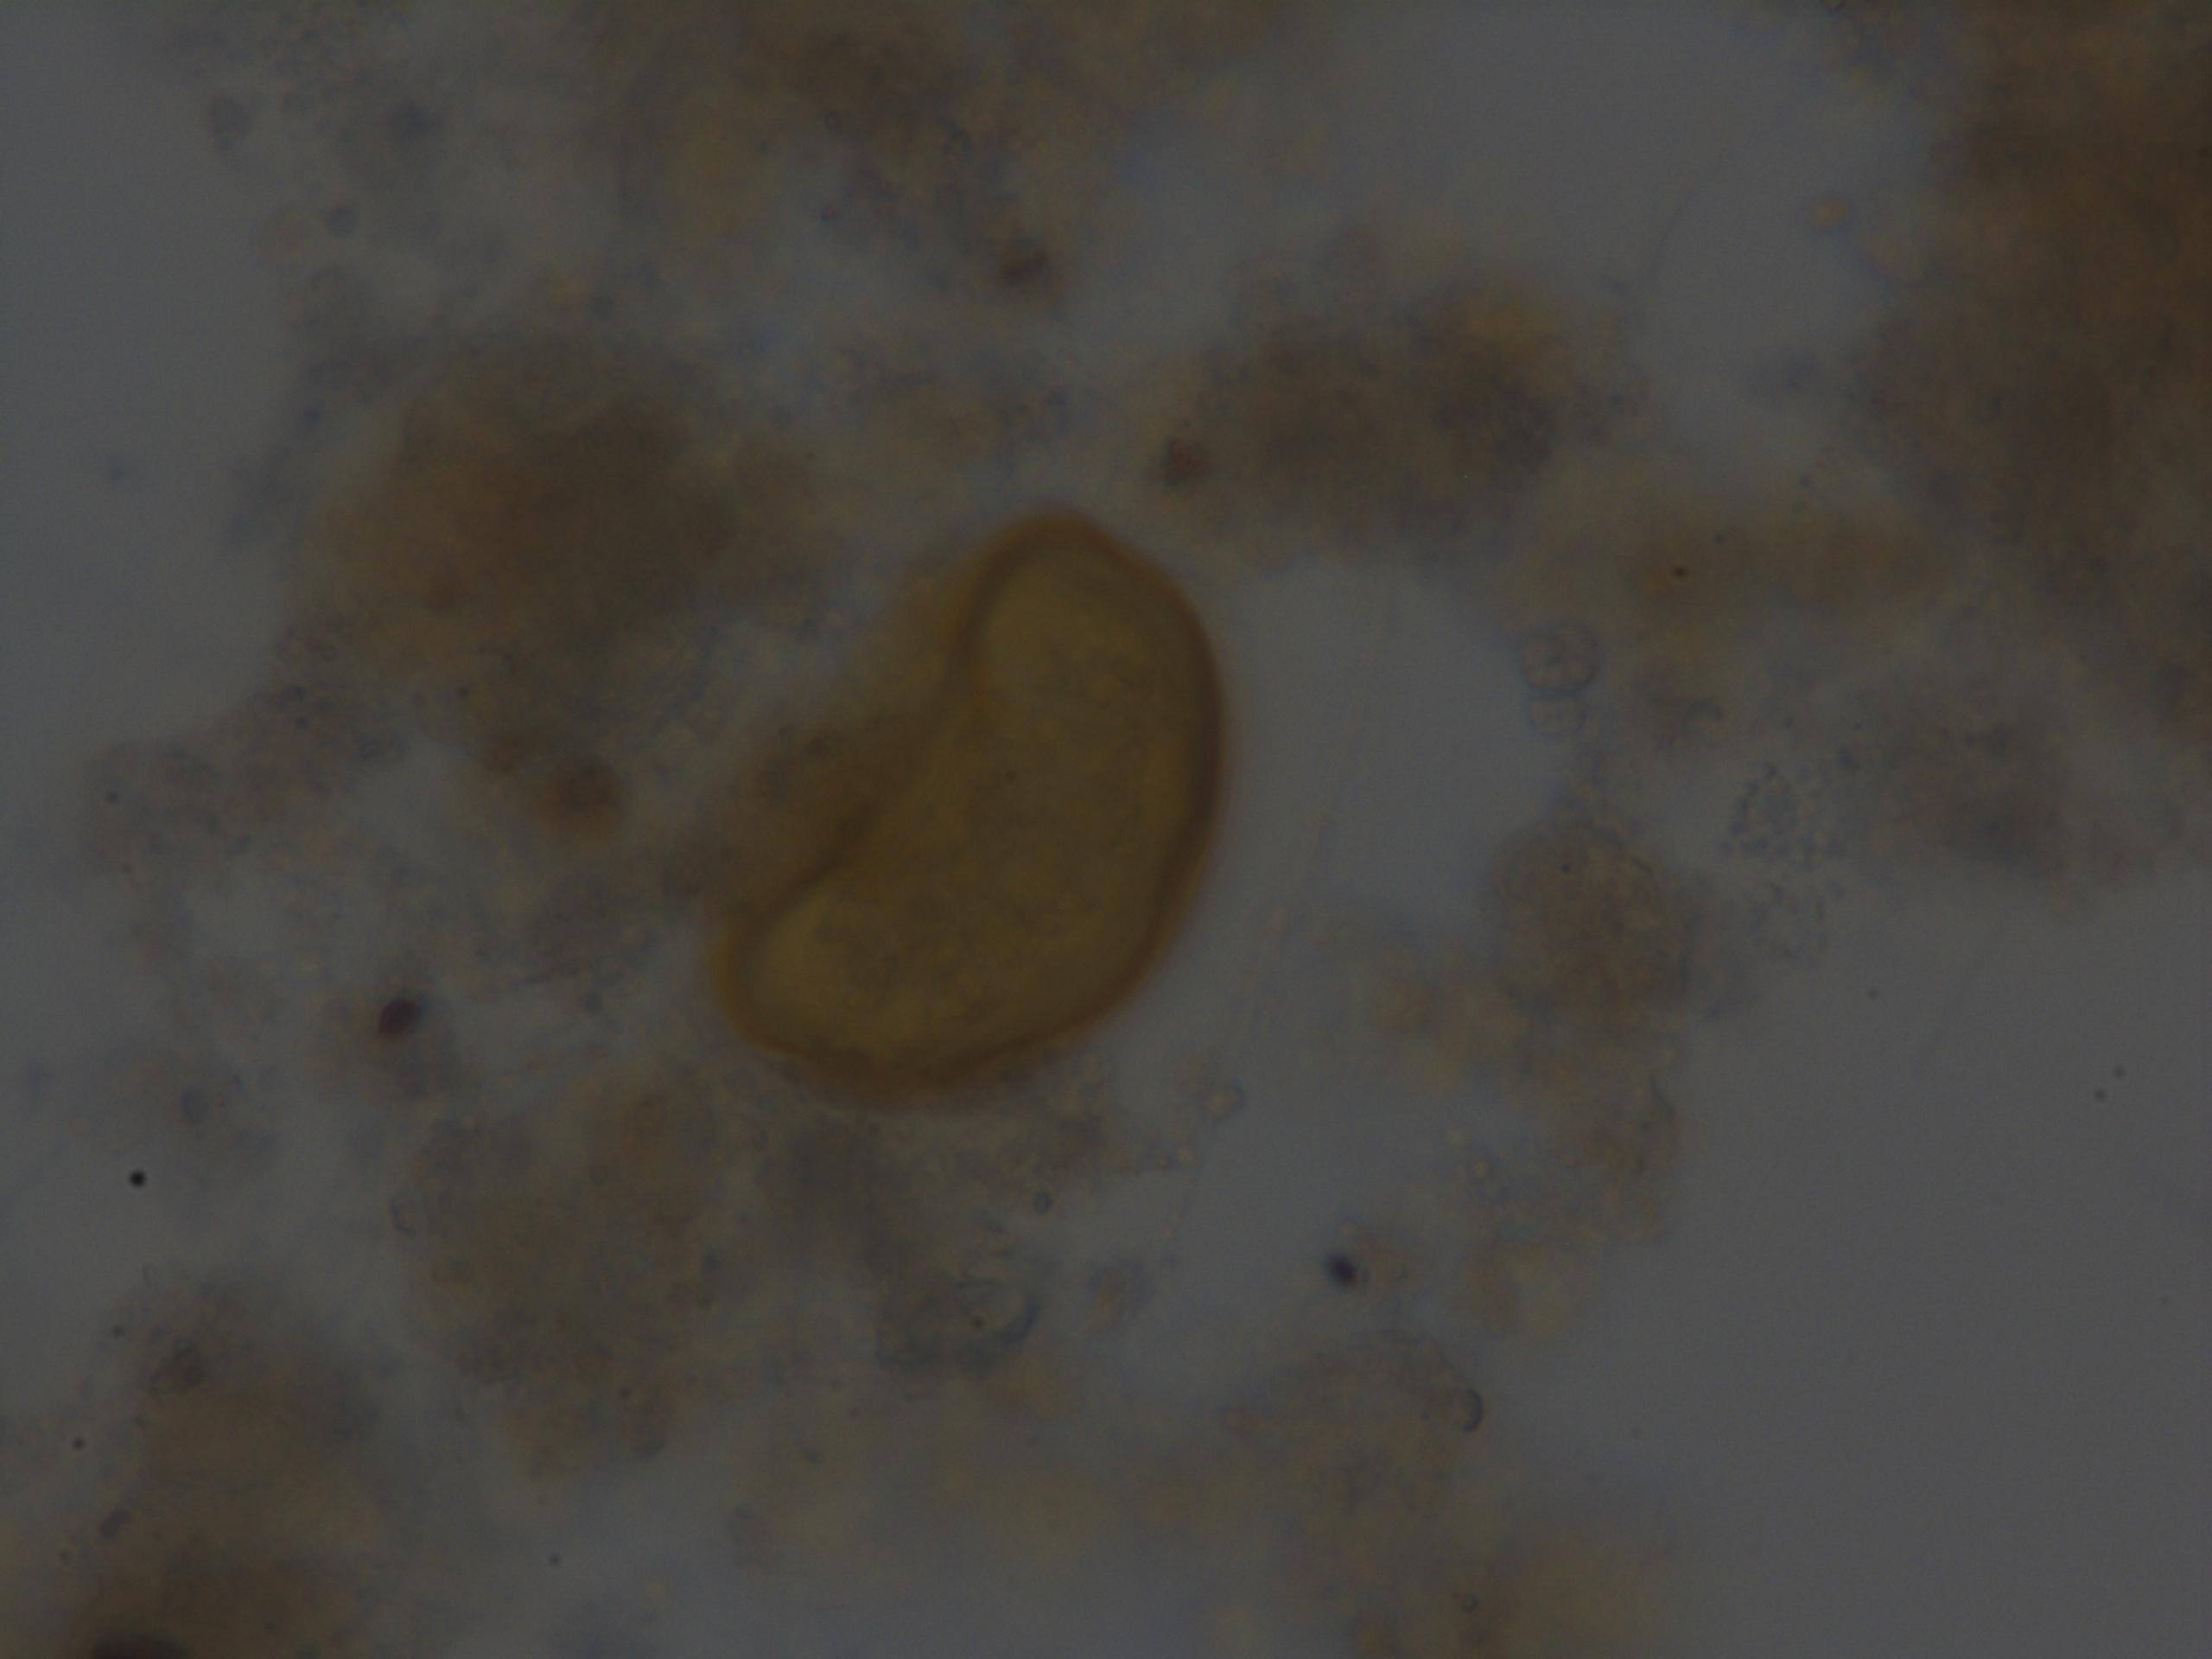open_floc: (21, 0, 1905, 1659)
protozoa: (723, 493, 1249, 1098)
